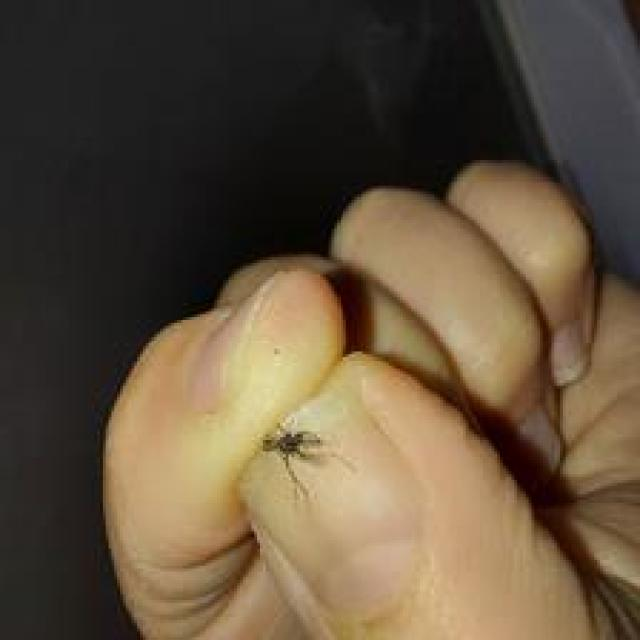Aedes albopictus: (259, 422, 324, 502)
